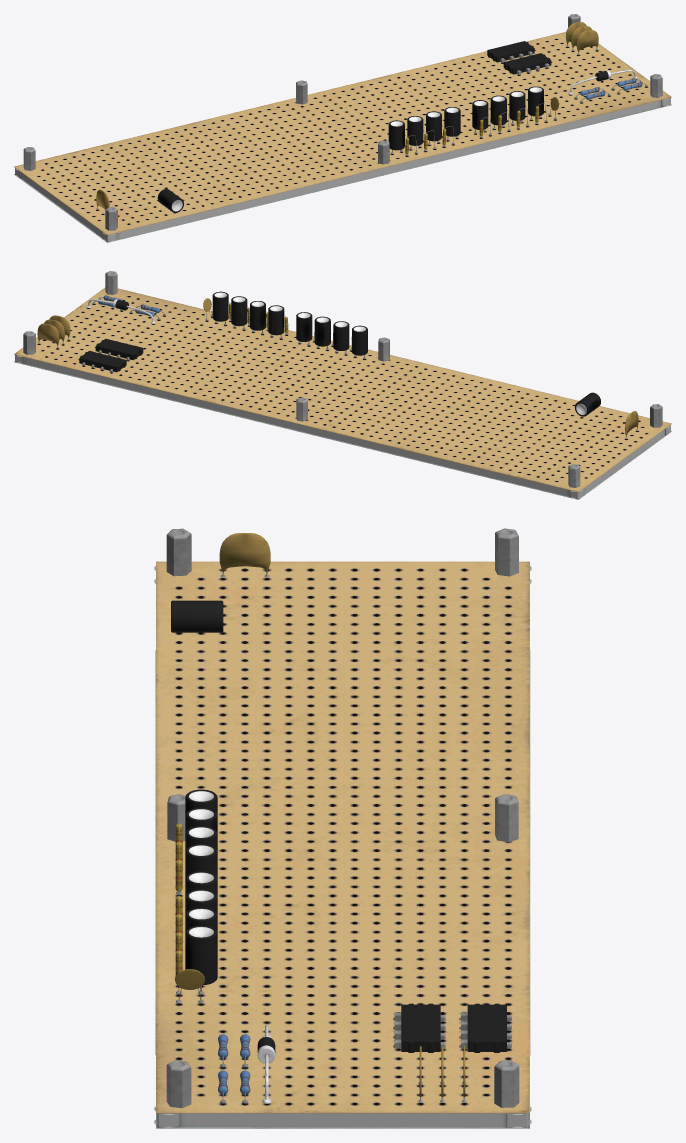
File: board_compressed.glb
3 views of the same model, one above another, from view 1: azimuth 30°, elevation 25°; view 2: azimuth 150°, elevation 25°; view 3: azimuth 270°, elevation 25° (orthographic). The views are drawn at different scales.
Visible parts, largest first — view 1: pCube17_883, pCube1_881, pCube18_885, pCube8.001_723, pCube8_721, pCylinder36.008_771, pCylinder36.007_769, pCylinder36.005_765, pCylinder36.003_761, pCylinder36.006_767, pCylinder36.002_759, pCylinder36.004_763 (+3 smaller); view 2: pCube17_883, pCube1_881, pCube18_885, pCube8.001_723, pCube8_721, pCylinder36.004_763, pCylinder36.006_767, pCylinder36.001_757, pCylinder36.002_759, pCylinder36.007_769, pCylinder36.005_765, pCylinder36.008_771 (+3 smaller); view 3: pCube17_883, pCube1_881, pCube8_721, pCube8.001_723, pCylinder36_755, pCylinder34_745, pCylinder36.001_757, pCube18_885, pCylinder33.003_739, pCylinder33.002_737, pCylinder33_733, pCylinder33.005_743 (+2 smaller).
Boxes of the visible parts, bbox=[...] form: pCube17_883: bbox=[14, 32, 671, 235]; pCube1_881: bbox=[21, 100, 661, 239]; pCube18_885: bbox=[14, 104, 671, 242]; pCube8.001_723: bbox=[503, 53, 551, 74]; pCube8_721: bbox=[487, 41, 534, 62]; pCylinder36.008_771: bbox=[388, 120, 404, 150]; pCylinder36.007_769: bbox=[407, 116, 423, 145]; pCylinder36.005_765: bbox=[444, 107, 460, 136]; pCylinder36.003_761: bbox=[490, 95, 506, 125]; pCylinder36.006_767: bbox=[426, 111, 441, 141]; pCylinder36.002_759: bbox=[509, 91, 525, 120]; pCylinder36.004_763: bbox=[472, 100, 488, 129]; pCube17_883: bbox=[14, 287, 671, 492]; pCube1_881: bbox=[24, 357, 664, 496]; pCube18_885: bbox=[14, 361, 671, 499]; pCube8.001_723: bbox=[95, 338, 143, 360]; pCube8_721: bbox=[79, 351, 126, 372]; pCylinder36.004_763: bbox=[268, 305, 284, 335]; pCylinder36.006_767: bbox=[314, 316, 330, 346]; pCylinder36.001_757: bbox=[212, 291, 228, 321]; pCylinder36.002_759: bbox=[231, 296, 247, 326]; pCylinder36.007_769: bbox=[333, 321, 349, 350]; pCylinder36.005_765: bbox=[296, 312, 312, 341]; pCylinder36.008_771: bbox=[352, 325, 367, 355]; pCube17_883: bbox=[156, 561, 529, 1113]; pCube1_881: bbox=[179, 1113, 506, 1126]; pCube8_721: bbox=[467, 1003, 506, 1052]; pCube8.001_723: bbox=[401, 1003, 440, 1052]; pCylinder36_755: bbox=[171, 600, 223, 632]; pCylinder34_745: bbox=[219, 533, 270, 577]; pCylinder36.001_757: bbox=[185, 925, 217, 984]; pCube18_885: bbox=[155, 650, 530, 1128]; pCylinder33.003_739: bbox=[494, 1060, 519, 1107]; pCylinder33.002_737: bbox=[166, 1060, 191, 1108]; pCylinder33_733: bbox=[166, 528, 191, 576]; pCylinder33.005_743: bbox=[495, 794, 518, 842].
Bounding box in the file's own units: 0.2484 × 0.0159 × 0.0716.
3 materials, 3 textured.
